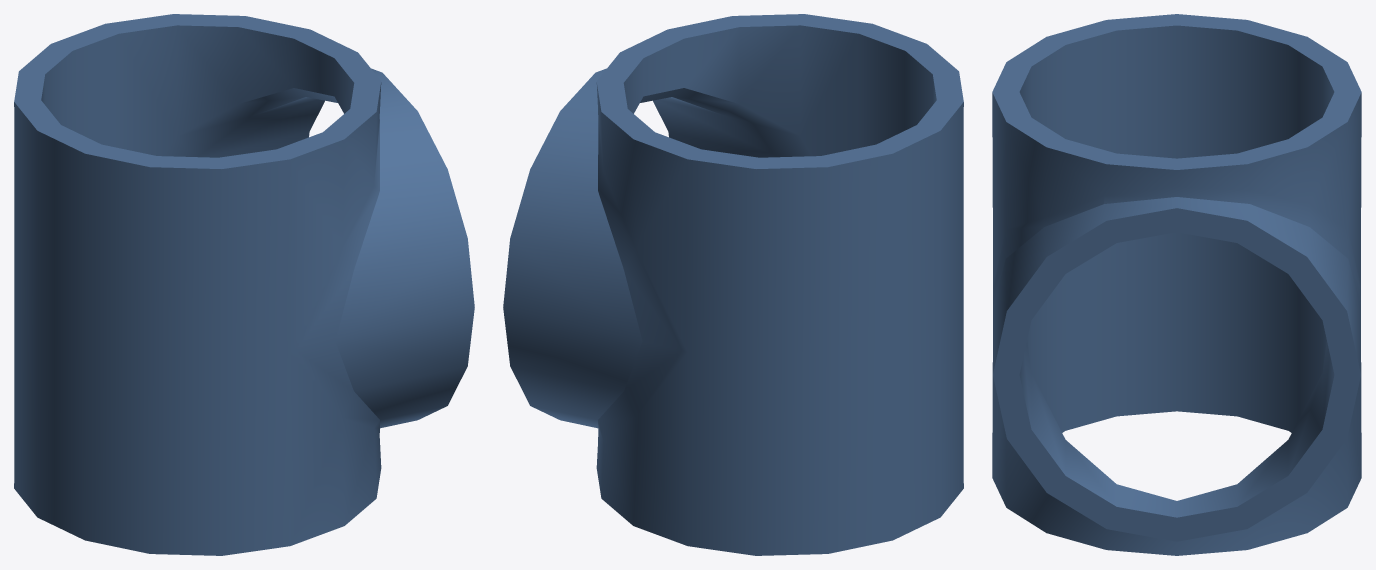
File: Pipe_T.gltf
3 views of the same model, side by side, from view 1: azimuth 30°, elevation 25°; view 2: azimuth 150°, elevation 25°; view 3: azimuth 270°, elevation 25° (orthographic).
Parts seen in each view (by area): view 1: Pipe_T; view 2: Pipe_T; view 3: Pipe_T.
Part boxes in pixels (x1,y1,x2,y2): Pipe_T: [14, 14, 474, 555]; Pipe_T: [503, 14, 963, 555]; Pipe_T: [992, 14, 1361, 555].
Size of the model in its own units: 1.87 by 2 by 1.74.
